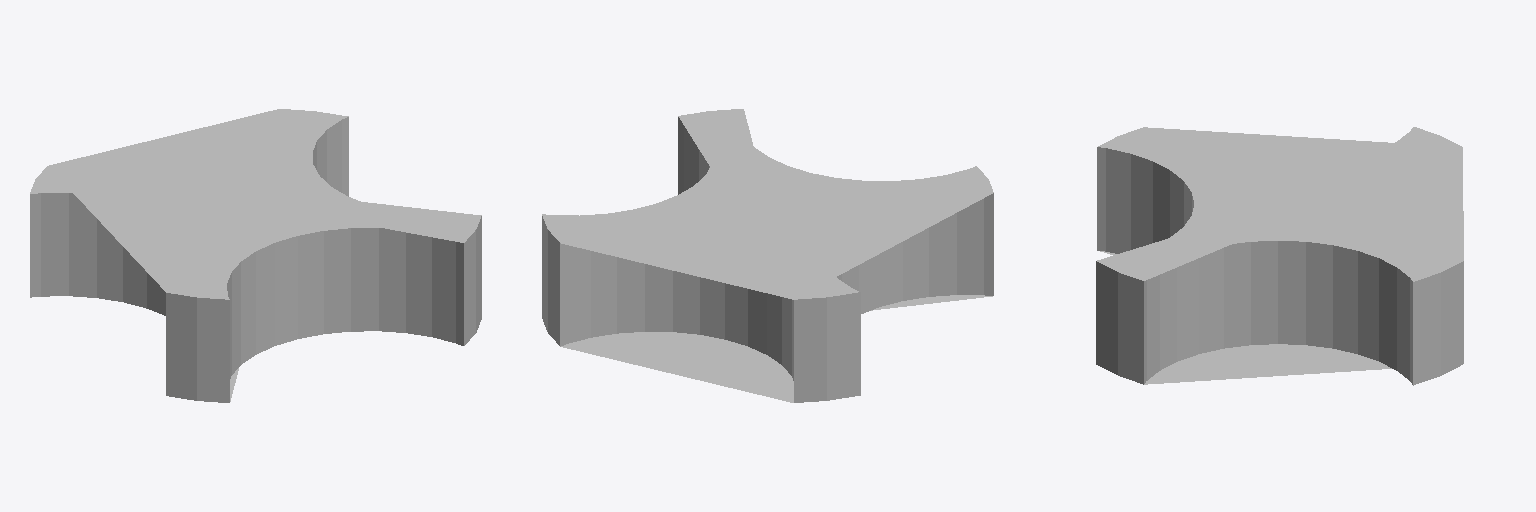
File: RevolvingDoor2.obj
3 renders of one model, left to right at view 1: azimuth 30°, elevation 25°; view 2: azimuth 150°, elevation 25°; view 3: azimuth 270°, elevation 25°, orthographic.
Visible parts, largest first — view 1: Cylinder; view 2: Cylinder; view 3: Cylinder.
Part boxes in pixels (left/top/right/bottom): Cylinder: left=30, top=109, right=481, bottom=402; Cylinder: left=542, top=109, right=993, bottom=402; Cylinder: left=1096, top=127, right=1463, bottom=385.
Size of the model in its own units: 3.23 by 1 by 3.22.